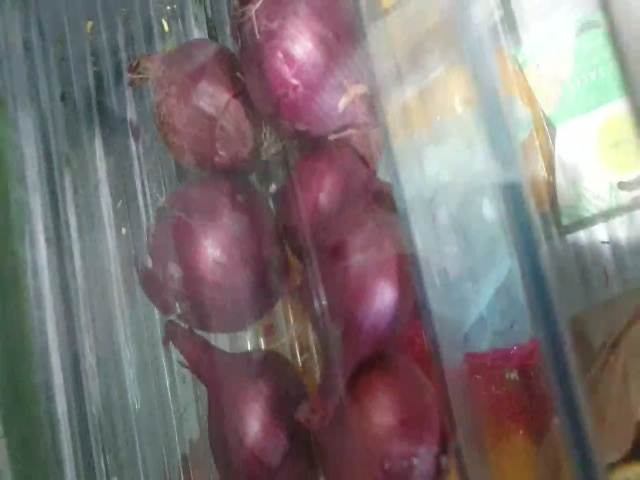red_onion: (140, 174, 287, 343), (158, 317, 310, 480), (231, 3, 376, 143), (126, 32, 257, 186), (304, 206, 424, 358), (305, 359, 442, 480), (278, 135, 378, 256)
